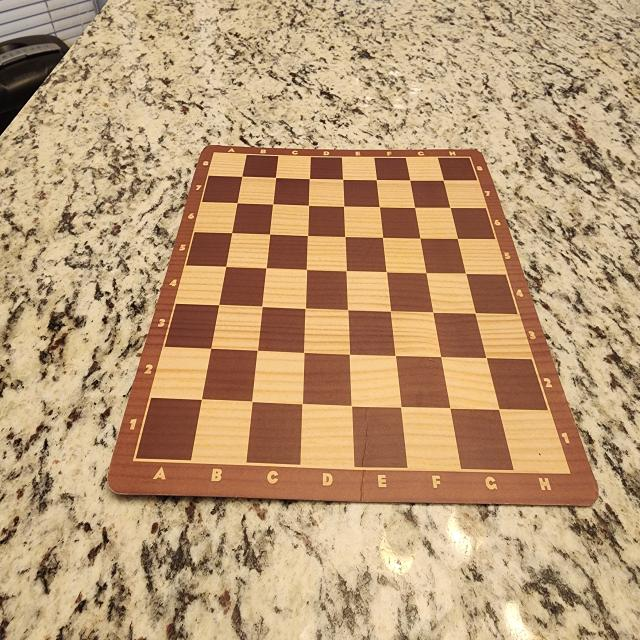Bottom-Left: (133, 400, 201, 461)
Bottom-Right: (499, 410, 570, 473)
Top-Left: (214, 152, 242, 177)
Top-Right: (445, 160, 471, 178)
